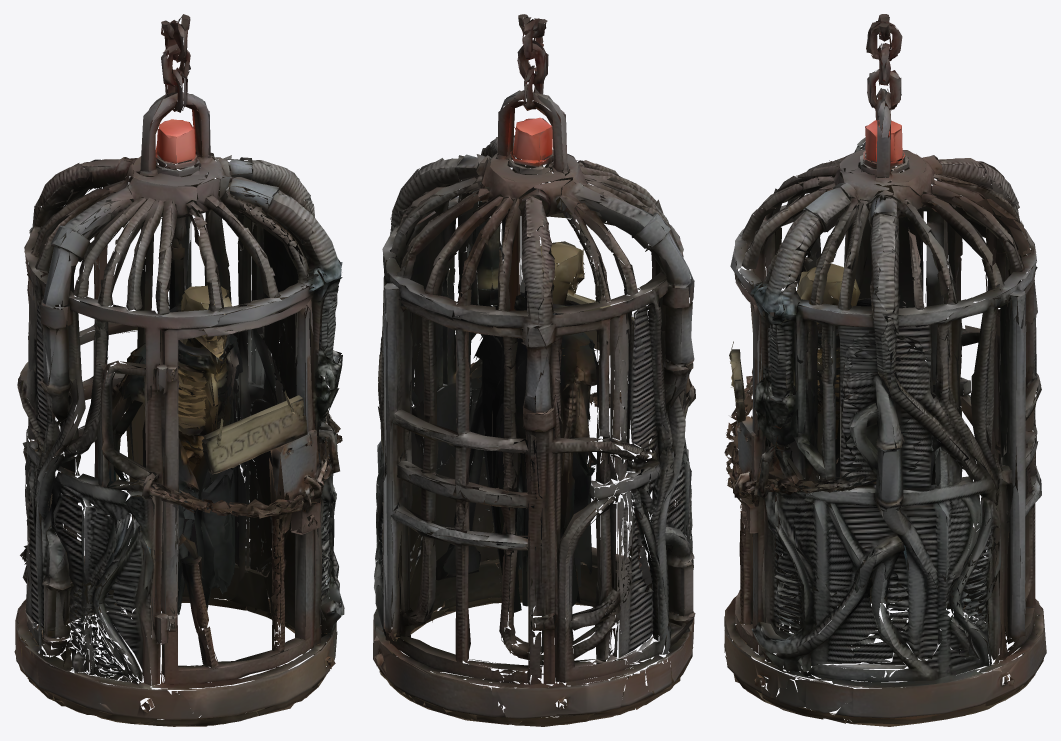
Rendered from vesper_hanging_cage.glb.
3 views of the same model, side by side, from view 1: azimuth 30°, elevation 25°; view 2: azimuth 150°, elevation 25°; view 3: azimuth 270°, elevation 25° (orthographic).
Parts seen in each view (by area): view 1: node_0; view 2: node_0; view 3: node_0.
Part boxes in pixels (left/top/right/bottom): node_0: left=14, top=14, right=344, bottom=726; node_0: left=373, top=14, right=695, bottom=726; node_0: left=724, top=14, right=1046, bottom=726.
Bounding box in the file's own units: 0.5232 × 1.11 × 0.5019.
1 material, 1 textured.
